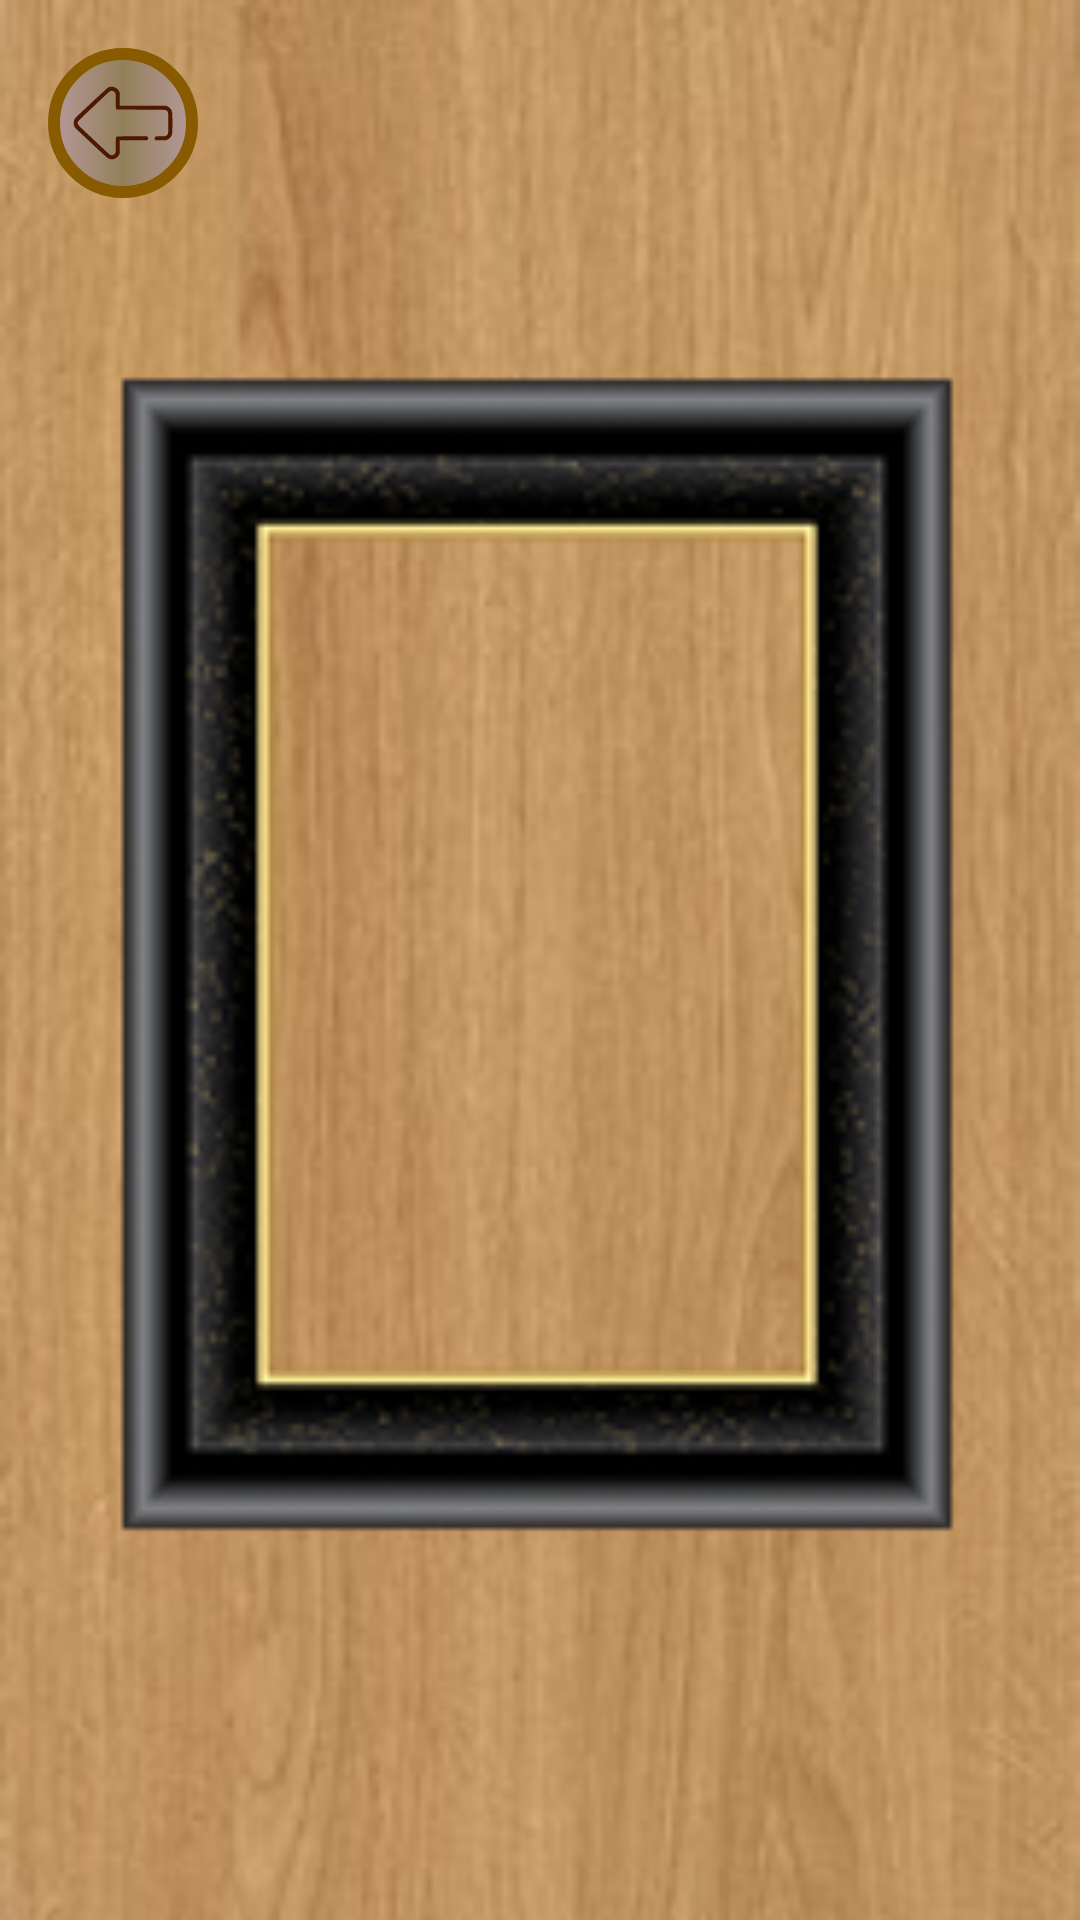

Point at icon controls on the screen. Image size 1080×1920, points as point (x, y).
back: point (123, 123)
